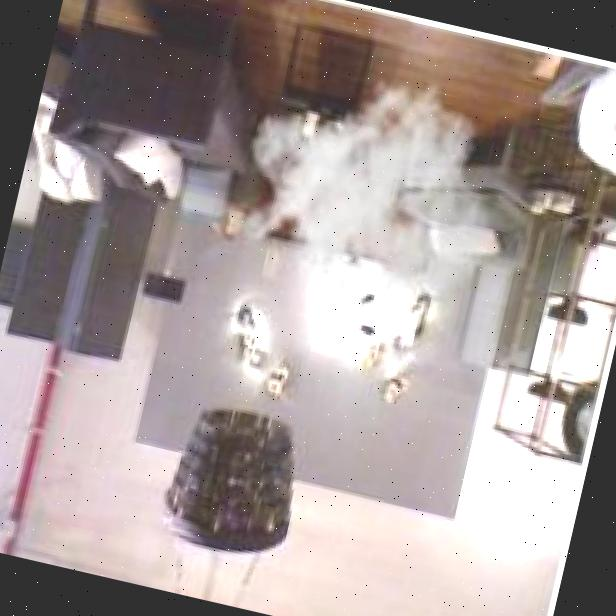smoke: (211, 43, 522, 369)
